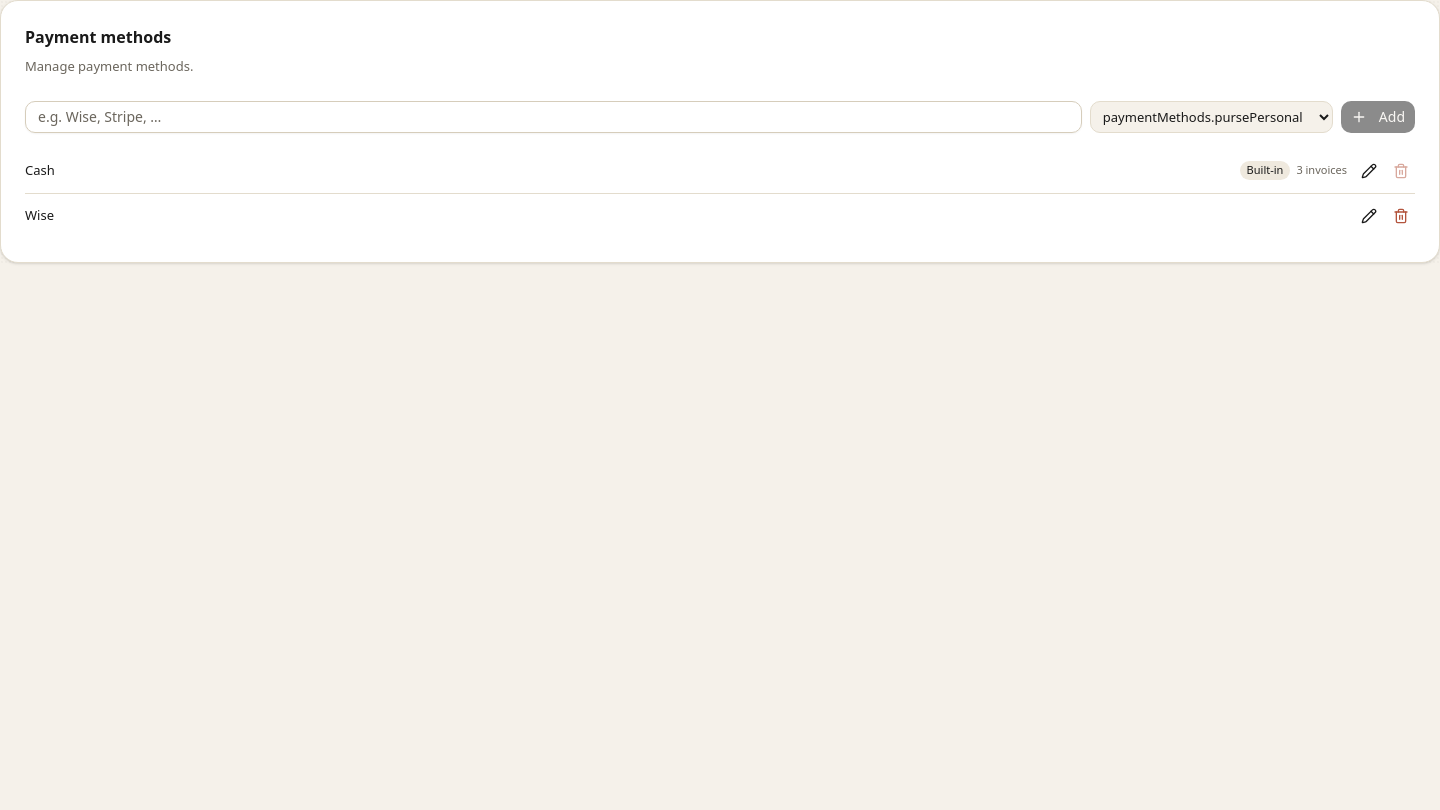
it: PaymentMethodsSection — delete flow › clicking delete on non-builtin opens confirm dialog
Click the button named "Delete \"Wise\"": (1401, 216) [1387,202,1415,230]
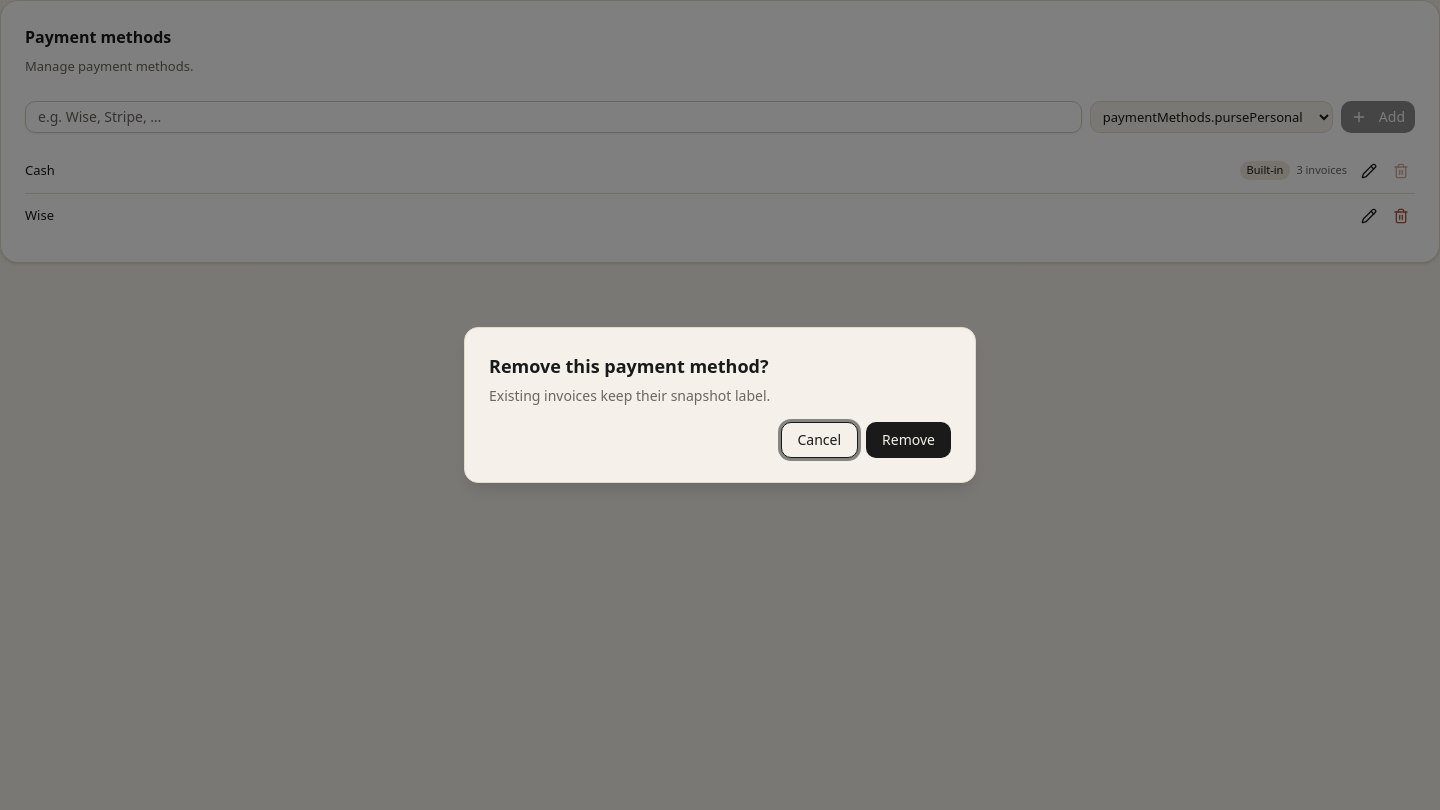
Expected: the heading "Remove this payment method?" is shown, [489,352,768,380]
